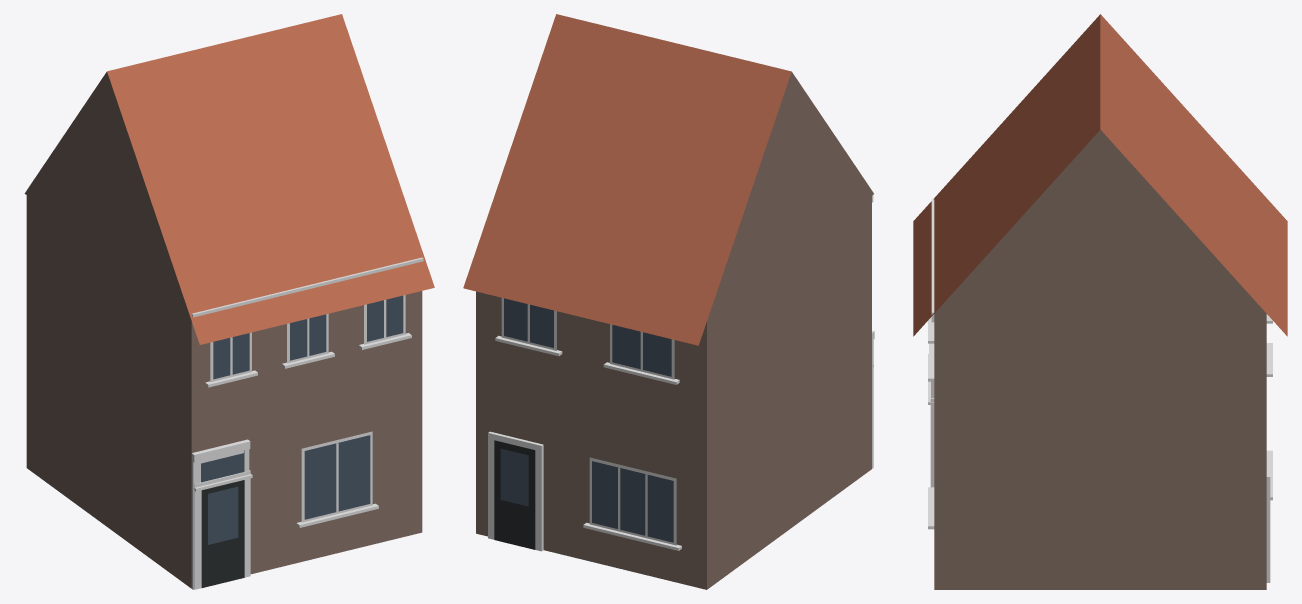
The model's file is nn-row-small__small__2__gable__long__solid.glb.
3 renders of one model, left to right at view 1: azimuth 30°, elevation 25°; view 2: azimuth 150°, elevation 25°; view 3: azimuth 270°, elevation 25°, orthographic.
Parts seen in each view (by area): view 1: nn-row-small__small__2__gable__long__solid; view 2: nn-row-small__small__2__gable__long__solid; view 3: nn-row-small__small__2__gable__long__solid.
Part boxes in pixels (x1,y1,x2,y2): nn-row-small__small__2__gable__long__solid: [24, 14, 434, 589]; nn-row-small__small__2__gable__long__solid: [463, 14, 874, 589]; nn-row-small__small__2__gable__long__solid: [913, 14, 1287, 589].
Bounding box in the file's own units: 5.19 × 9.65 × 7.1.
